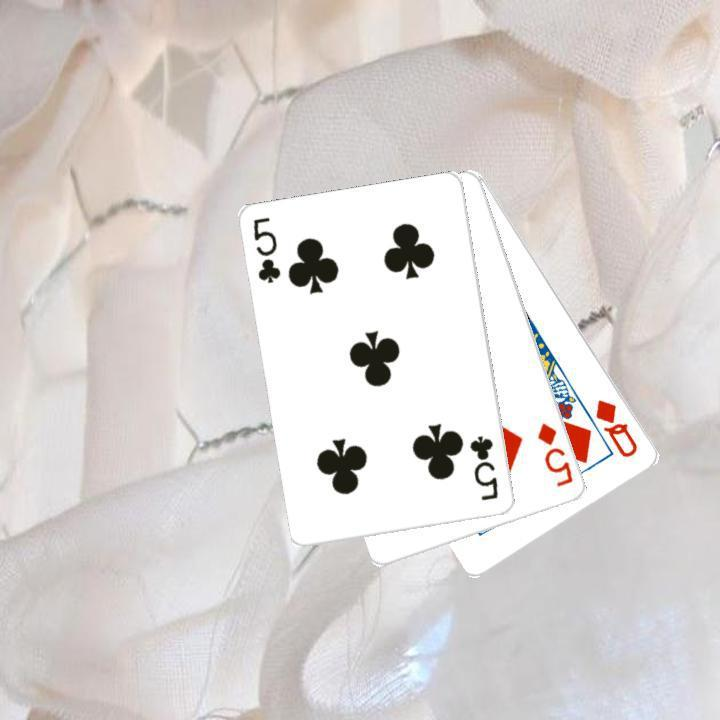5: (533, 418, 576, 489), (466, 432, 501, 503), (249, 213, 283, 286)
Q: (591, 395, 641, 460)
